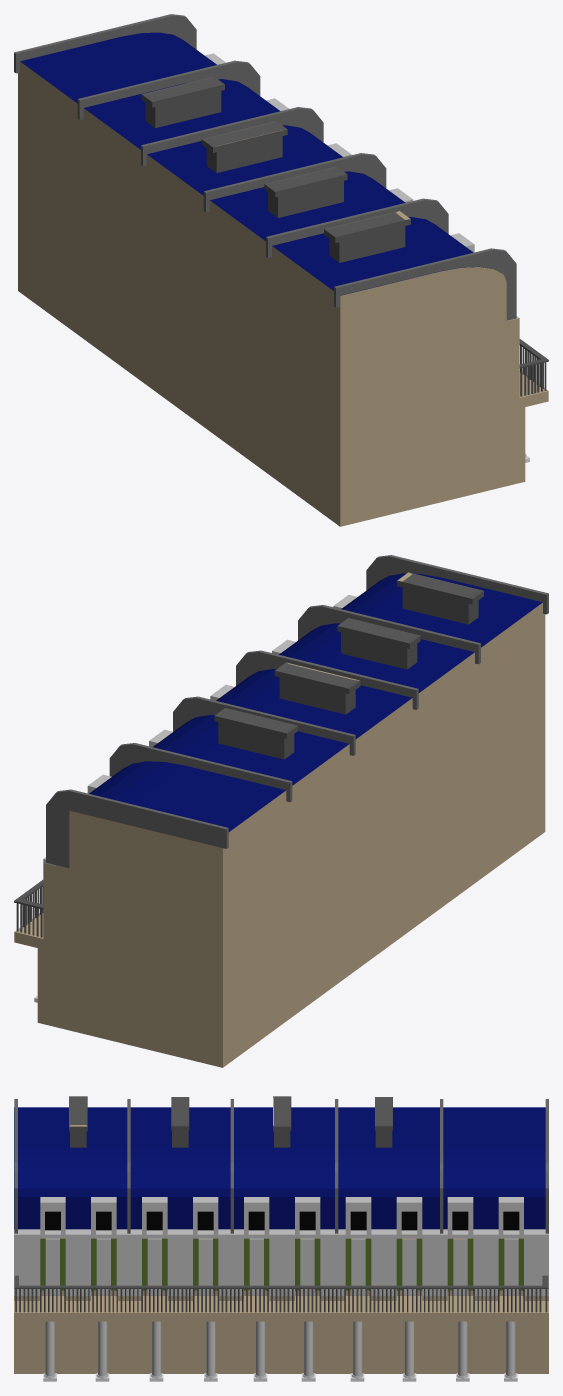
The model's file is frenchhouse.fbx.
3 renders of one model, top to bottom at view 1: azimuth 30°, elevation 25°; view 2: azimuth 150°, elevation 25°; view 3: azimuth 270°, elevation 25°, orthographic. The views are drawn at different scales.
Visible parts, largest first — view 1: Cube, Cube.011, Cube.017, Cube.016, Cube.015, Cube.013, Cube.012; view 2: Cube, Cube.017, Cube.016, Cube.011, Cube.012, Cube.013, Cube.015; view 3: Cube, Cube.014, Cylinder, Cylinder.003, Cylinder.008, Cylinder.001, Cylinder.006, Cylinder.004, Cylinder.005, Cylinder.007, Cylinder.009, Cube.011 (+6 smaller).
Boxes of the visible parts, <box> form: Cube: <box>18,32,548,526</box>; Cube.011: <box>334,248,516,320</box>; Cube.017: <box>14,14,196,73</box>; Cube.016: <box>77,60,260,119</box>; Cube.015: <box>141,107,323,166</box>; Cube.013: <box>203,153,386,212</box>; Cube.012: <box>266,198,448,257</box>; Cube: <box>14,572,545,1067</box>; Cube.017: <box>46,789,228,867</box>; Cube.016: <box>109,743,292,802</box>; Cube.011: <box>366,555,548,614</box>; Cube.012: <box>298,605,480,664</box>; Cube.013: <box>236,650,418,709</box>; Cube.015: <box>173,696,355,755</box>; Cube: <box>14,1096,548,1373</box>; Cube.014: <box>14,1275,548,1288</box>; Cylinder: <box>44,1321,55,1378</box>; Cylinder.003: <box>205,1321,216,1378</box>; Cylinder.008: <box>457,1321,468,1378</box>; Cylinder.001: <box>96,1321,108,1378</box>; Cylinder.006: <box>351,1321,363,1378</box>; Cylinder.004: <box>254,1321,265,1378</box>; Cylinder.005: <box>303,1321,314,1378</box>; Cylinder.007: <box>403,1321,414,1378</box>; Cylinder.009: <box>505,1321,516,1378</box>; Cube.011: <box>14,1099,17,1233</box>.
Size of the model in its own units: 2271 by 2633 by 5958.
